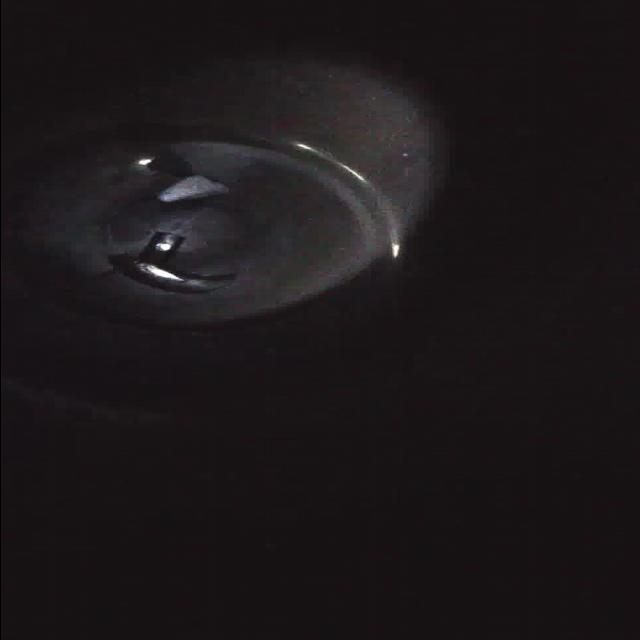impurity: (156, 170, 232, 210)
